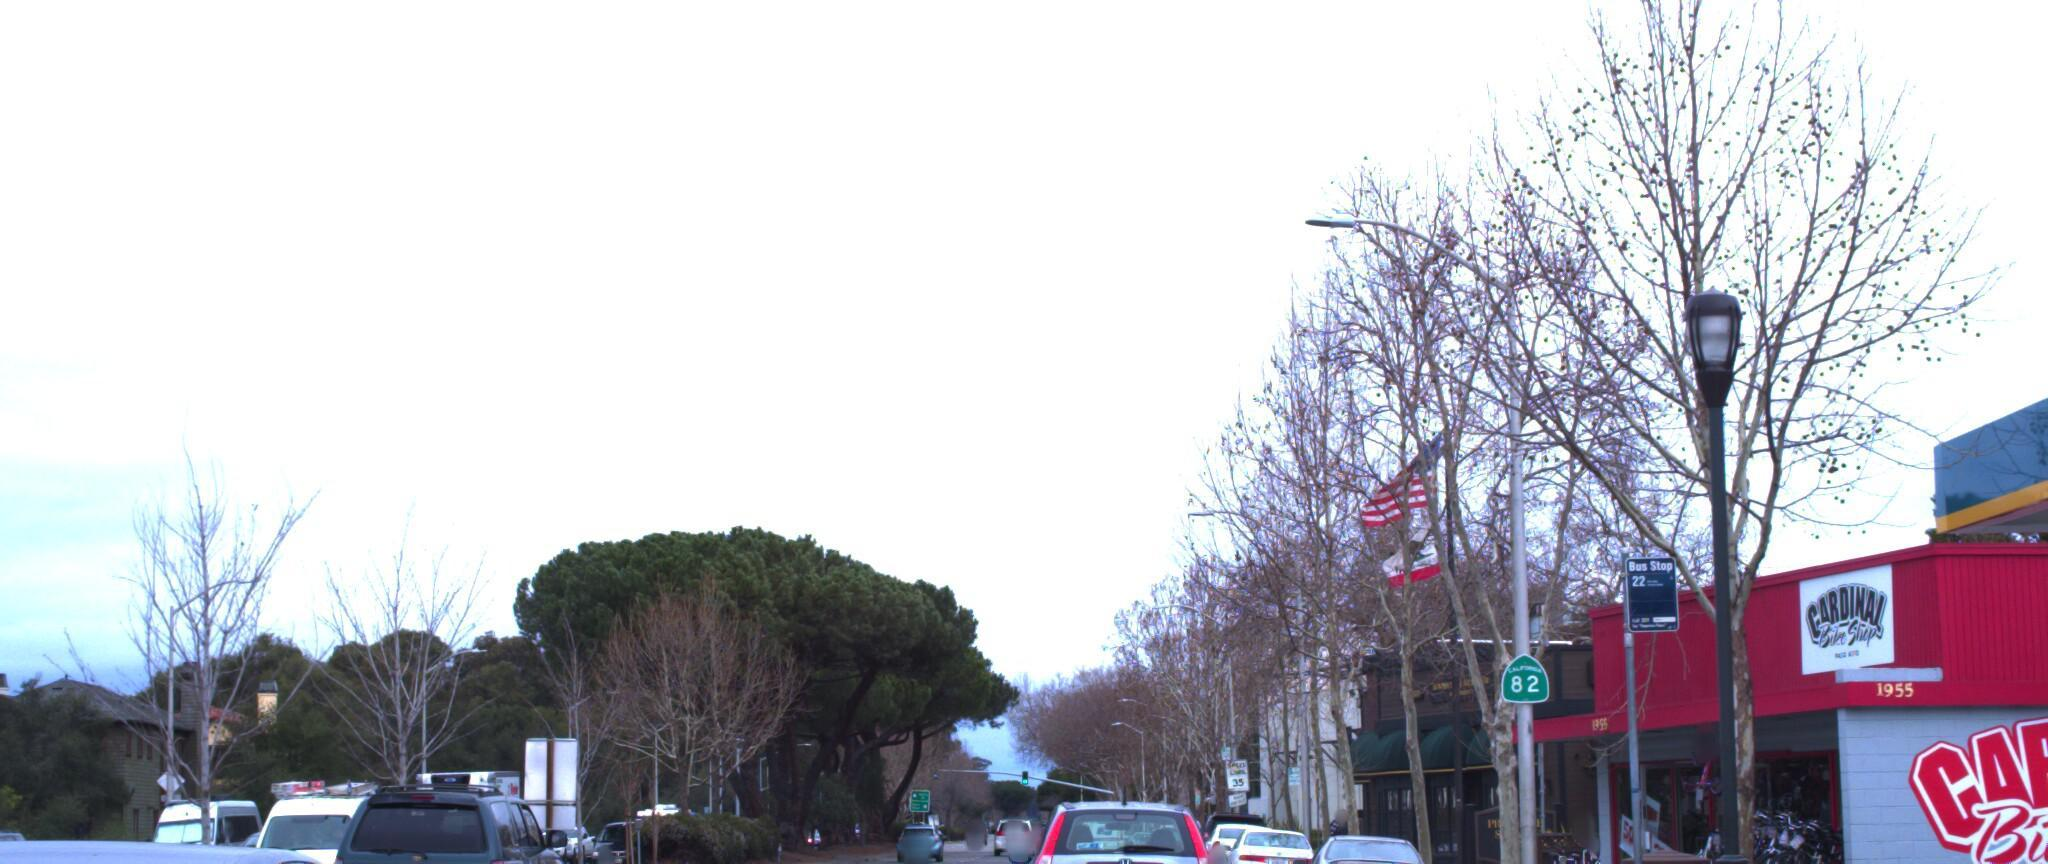bicycle: (1749, 807, 1895, 864), (1755, 807, 1902, 864), (1737, 808, 1883, 864), (1728, 808, 1872, 864), (1721, 808, 1865, 864), (1522, 837, 1578, 864)
car: (274, 760, 573, 864), (0, 820, 522, 864), (1000, 786, 1236, 864), (195, 765, 379, 864), (1280, 822, 1437, 864), (1209, 818, 1314, 864), (0, 831, 135, 864), (0, 818, 51, 864)
